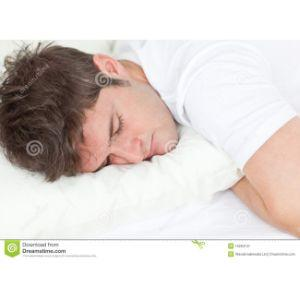sleep: (1, 41, 300, 239), (84, 103, 172, 174)
